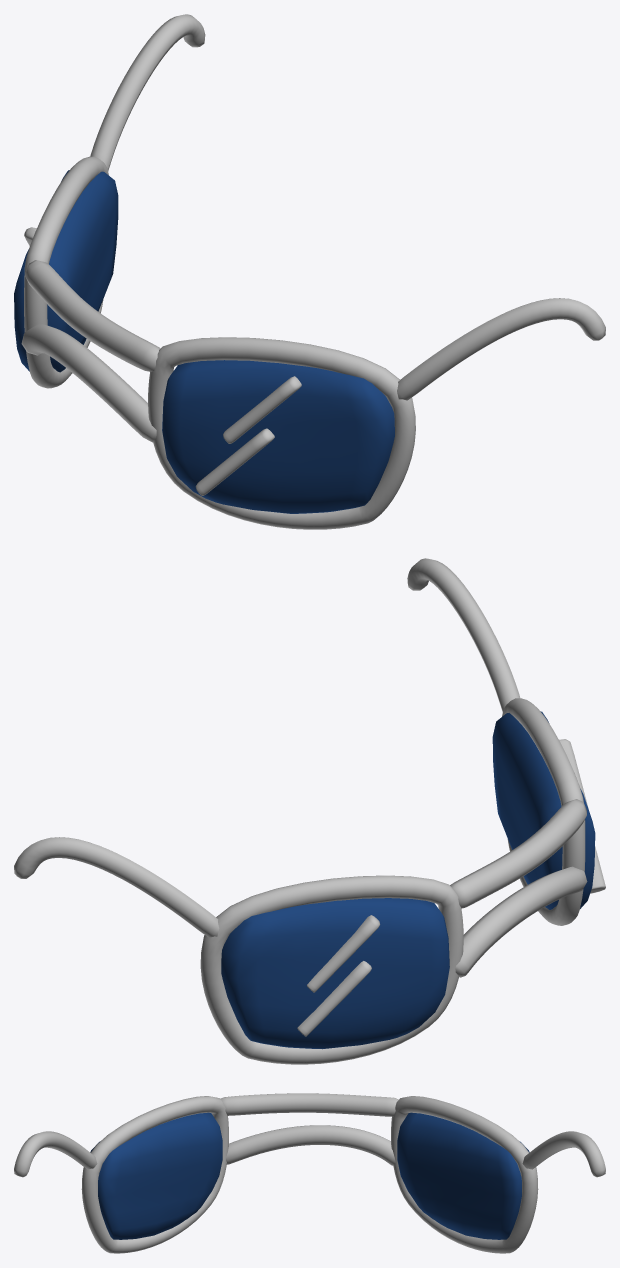
File: Lunettes soleil .fbx
3 renders of one model, top to bottom at view 1: azimuth 30°, elevation 25°; view 2: azimuth 150°, elevation 25°; view 3: azimuth 270°, elevation 25°, orthographic. The views are drawn at different scales.
Parts seen in each view (by area): view 1: BézierCurve.014; view 2: BézierCurve.014; view 3: BézierCurve.014.
Part boxes in pixels (x1,y1,x2,y2): BézierCurve.014: [14, 14, 605, 529]; BézierCurve.014: [14, 558, 605, 1064]; BézierCurve.014: [14, 1093, 605, 1253].
Size of the model in its own units: 19.6 by 13.67 by 41.9.
